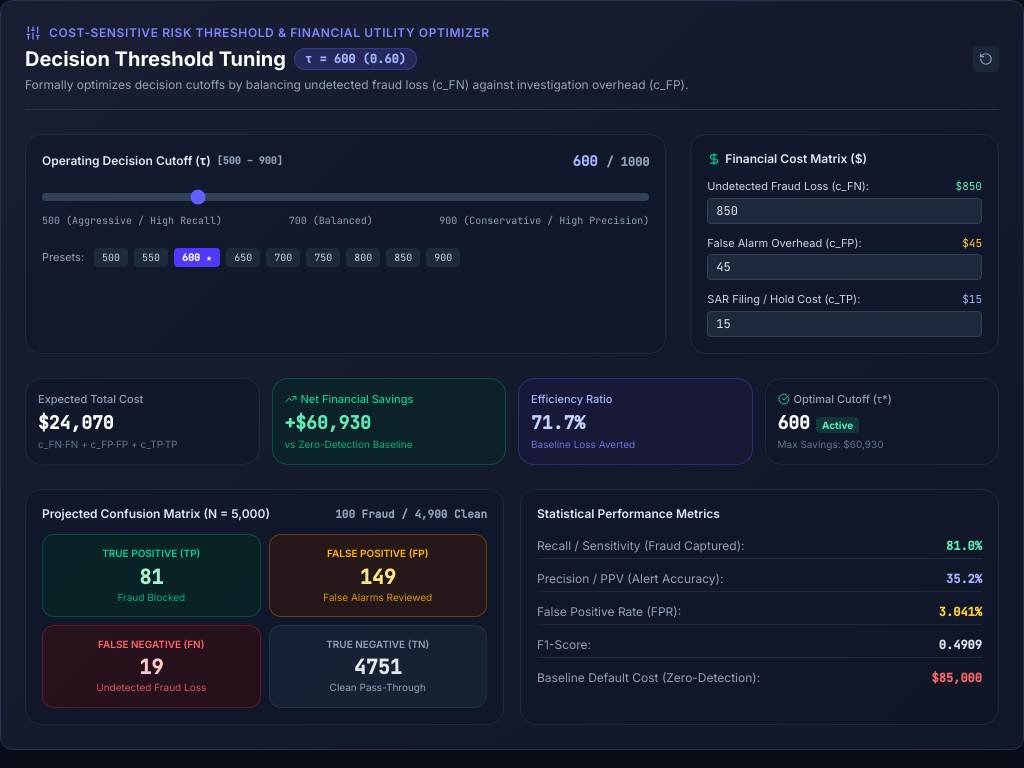
Test: ThresholdTuningSlider Component Test Suite › updates financial calculations when cost parameters change
Replace the text in the number field named "Cost of False Negative" with "1200" at (845, 211), box [707, 198, 982, 224]
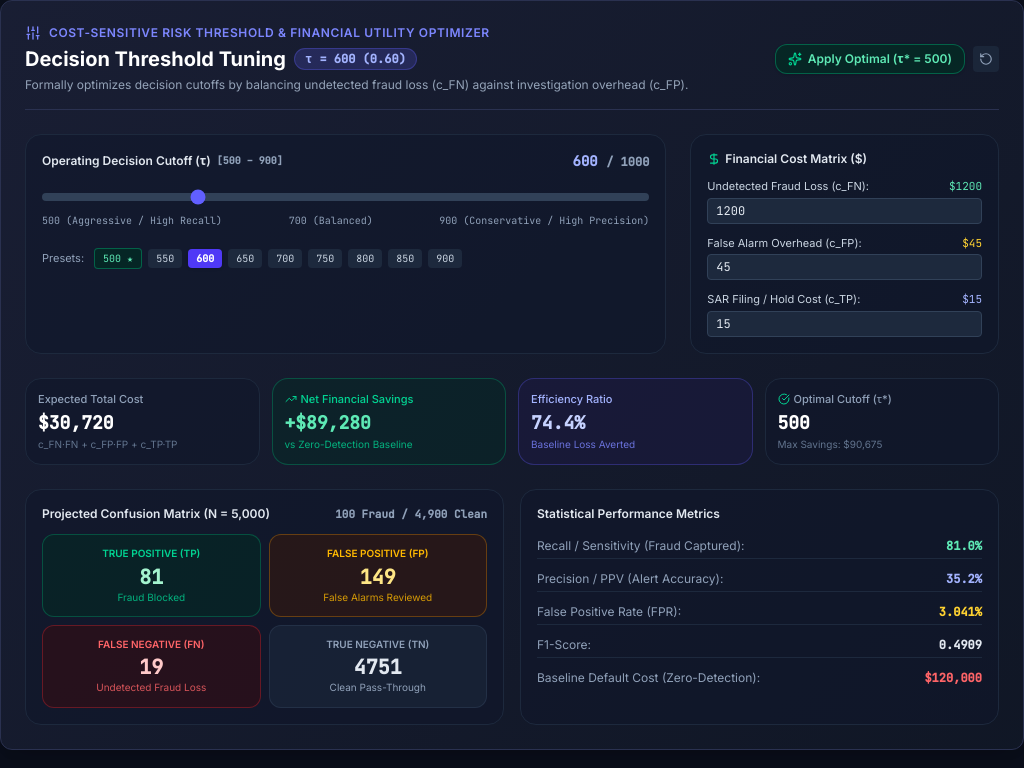
Check: the text "$120,000" is shown, box [924, 670, 982, 686]
